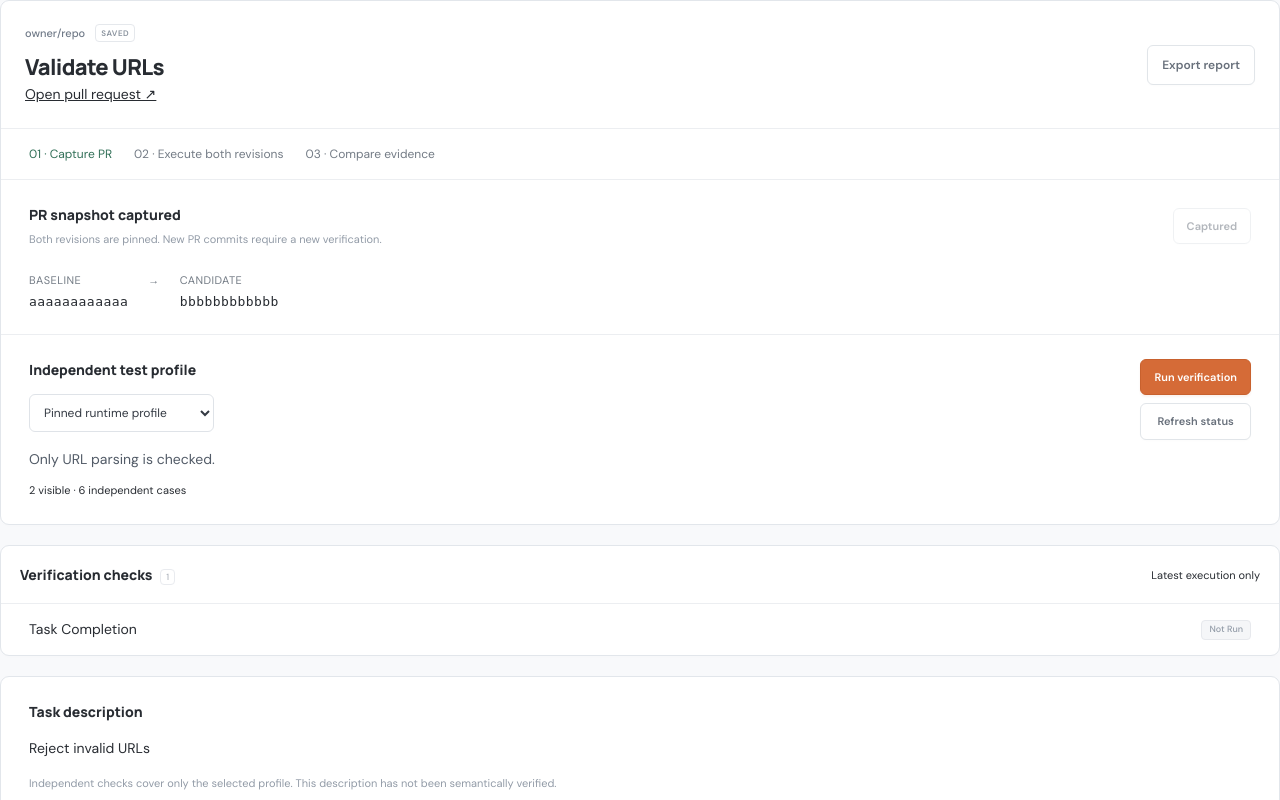
chooses a configured profile and disables an unavailable choice despite aggregate availability
Expected: the button "Run verification" is enabled, left=1140, top=358, right=1251, bottom=395
Select "URL contract" in the dropdown named "Independent test profile": (122, 412) left=29, top=394, right=214, bottom=432
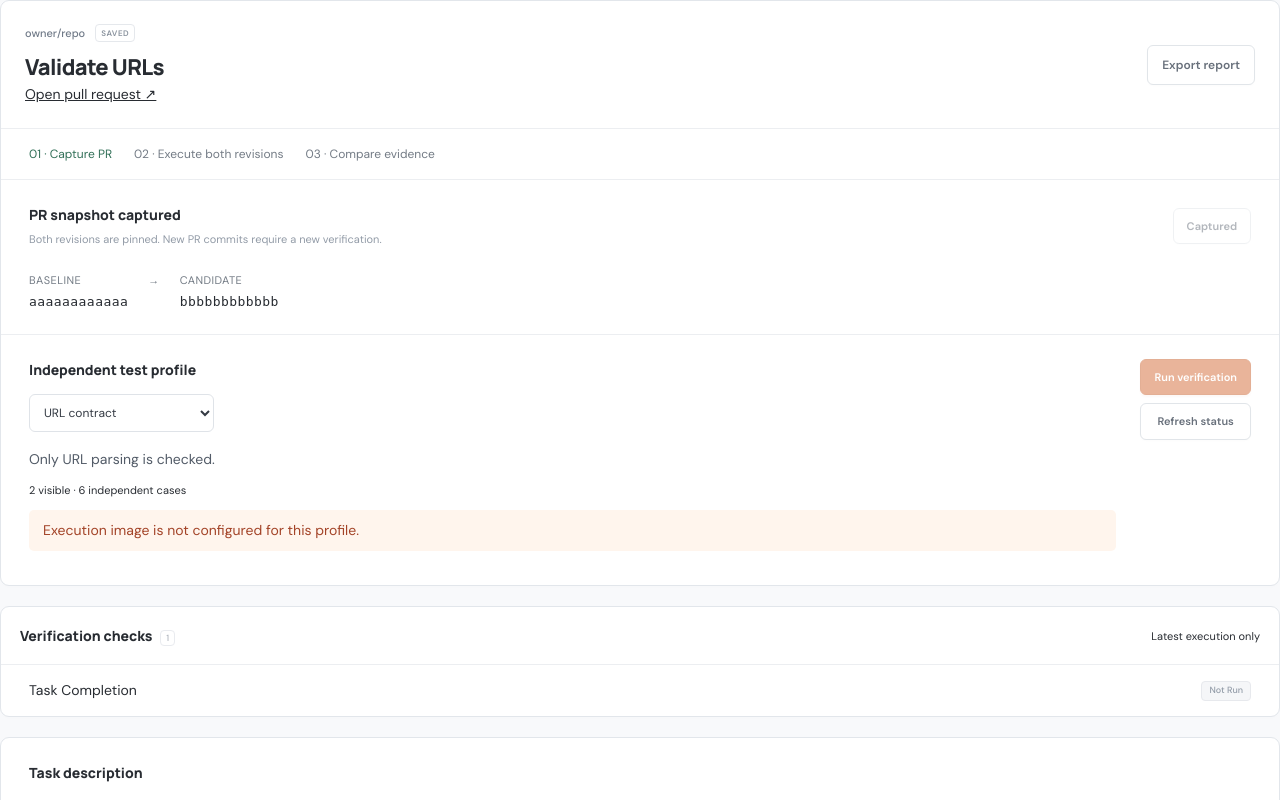
Expected: the button "Run verification" is disabled, left=1140, top=358, right=1251, bottom=395
Expected: the text "Execution image is not configured for this profile." is shown, left=29, top=510, right=1116, bottom=551
Select "Pinned runtime profile" in the dropdown named "Independent test profile": (122, 412) left=29, top=394, right=214, bottom=432
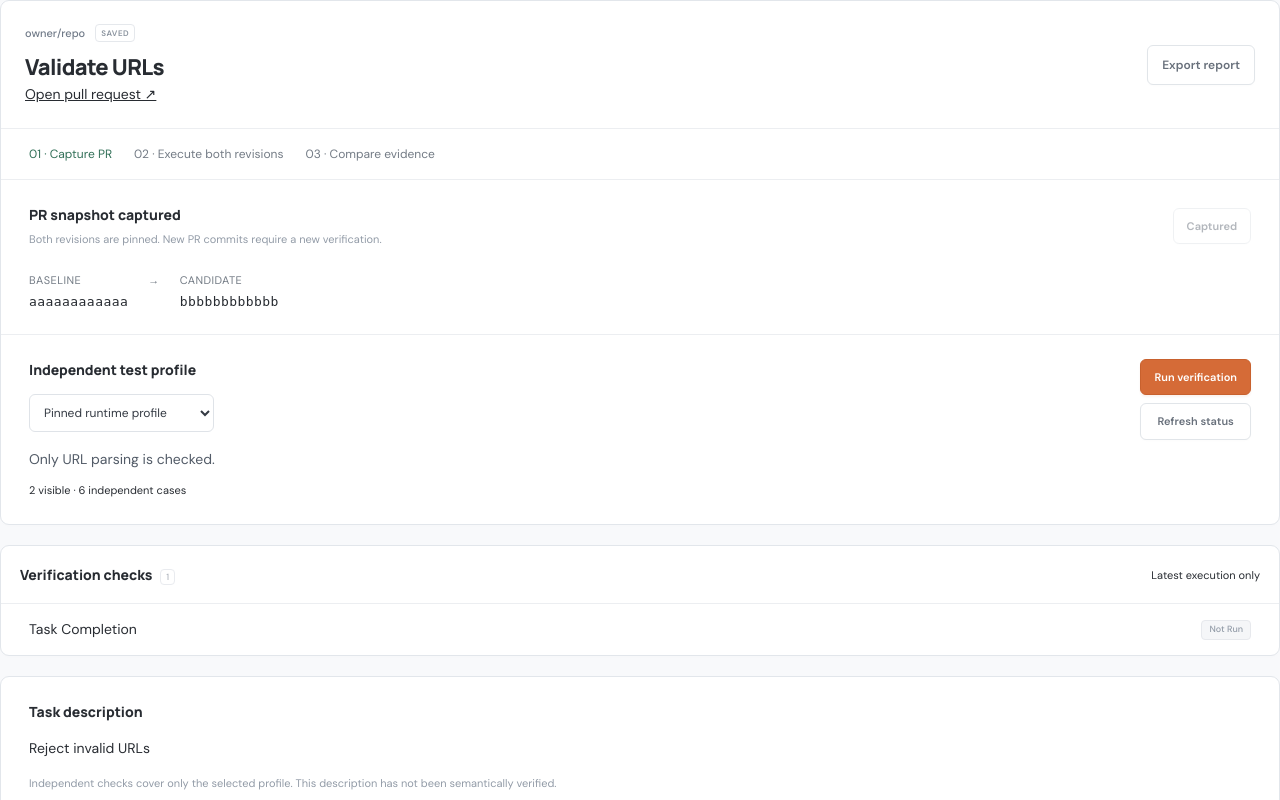
Expected: the button "Run verification" is enabled, left=1140, top=358, right=1251, bottom=395
Expected: the text "Execution image is not configured" is gone
